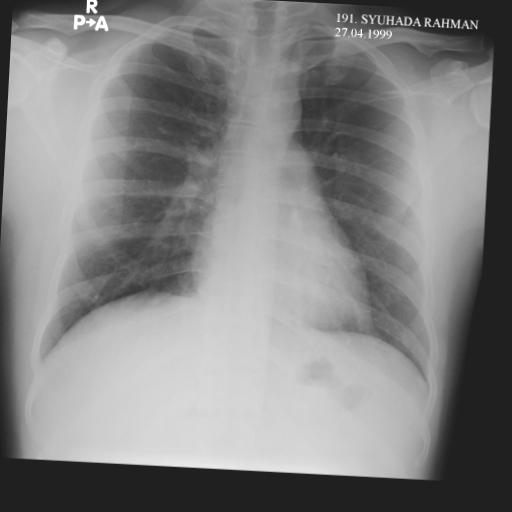normal: (26, 0, 463, 407)
